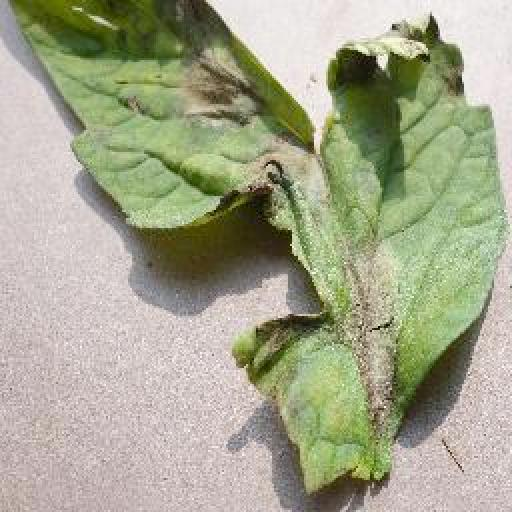disease_tomato: (7, 0, 509, 492)
